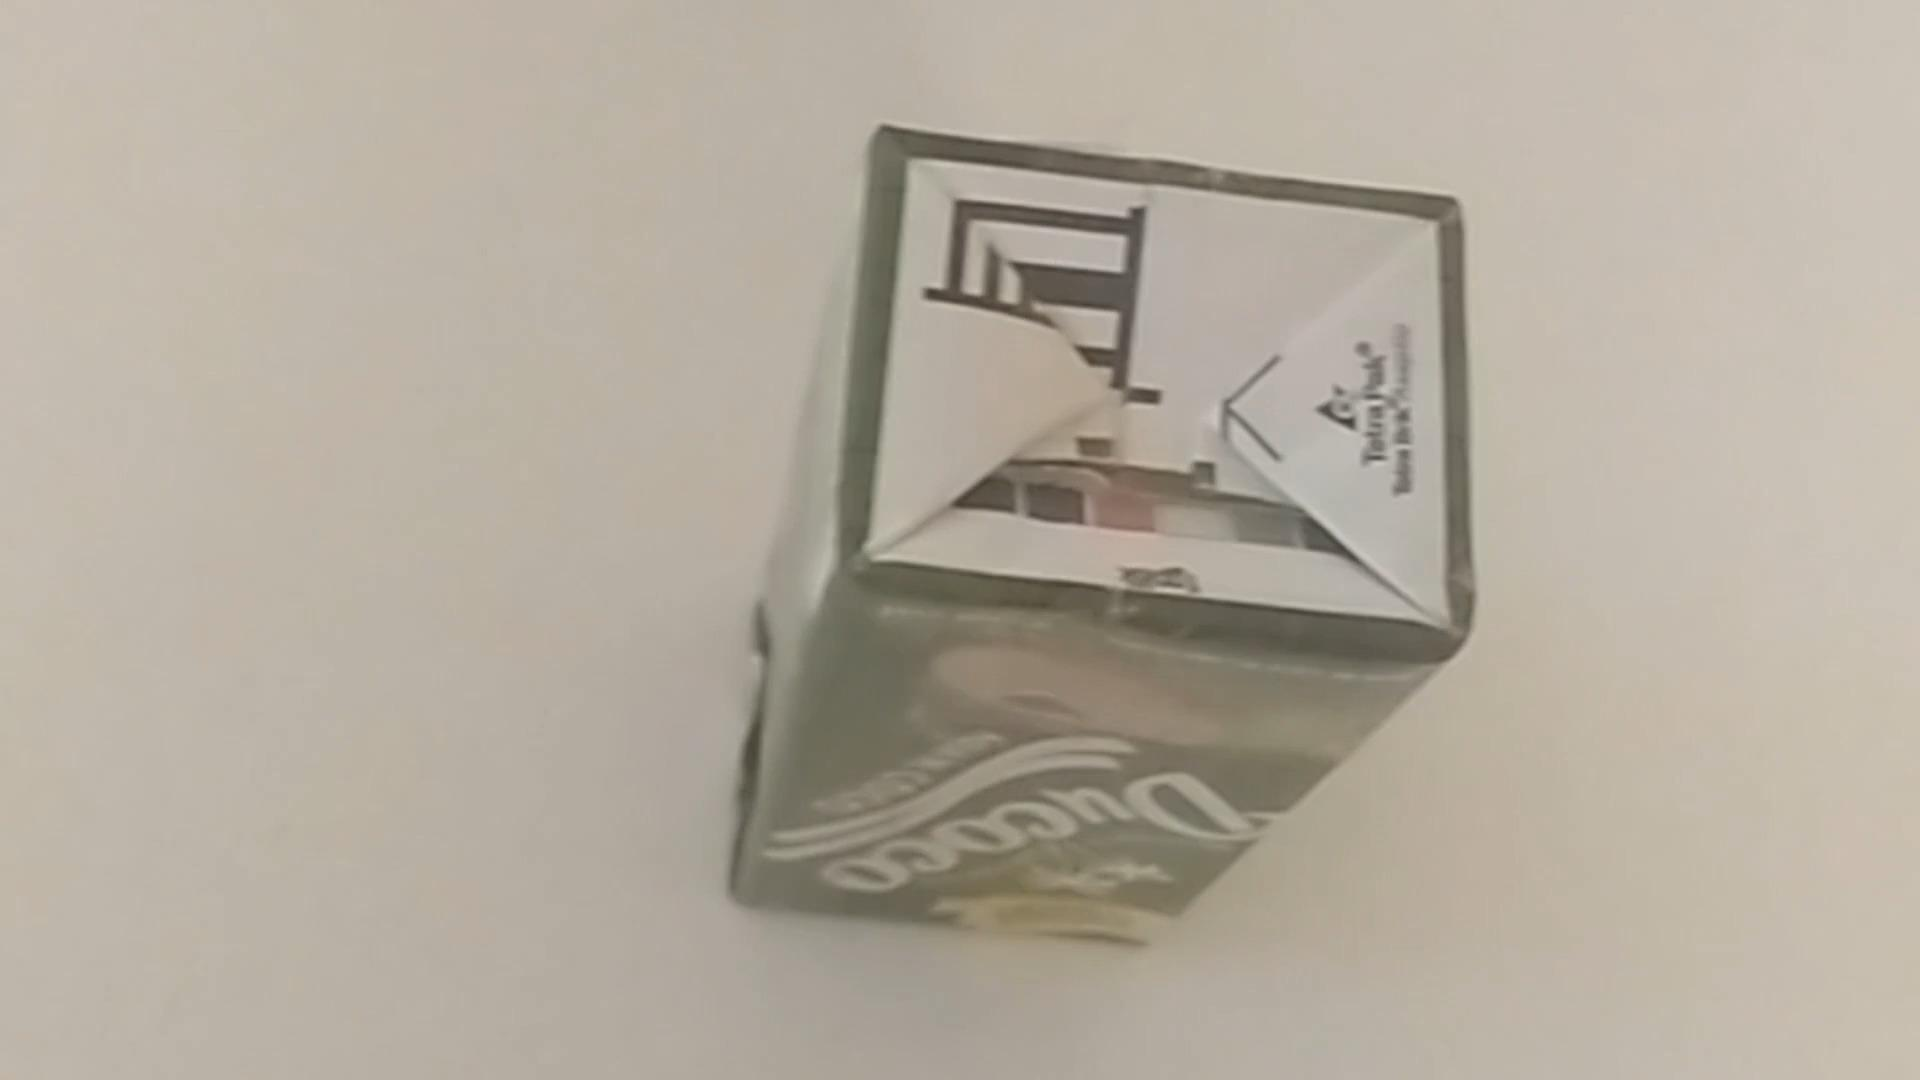coco: (723, 127, 1469, 949)
